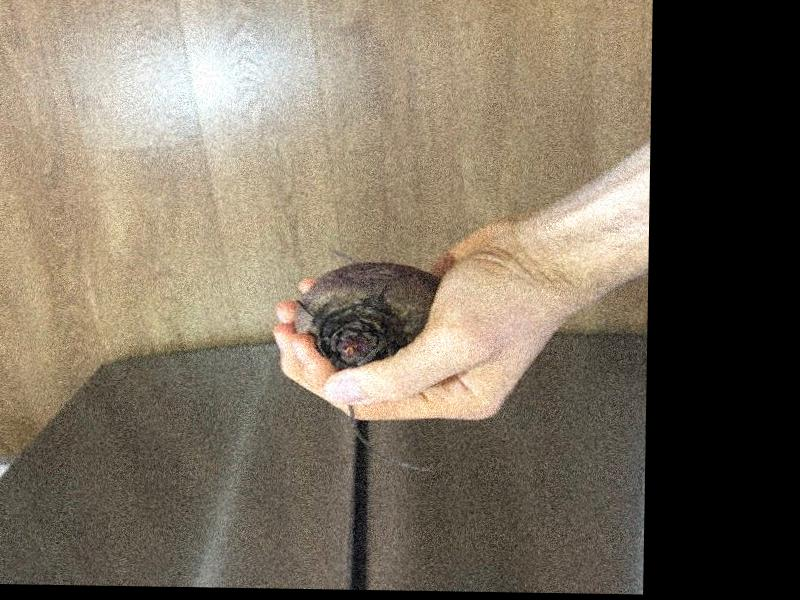Beet: (290, 261, 441, 473)
